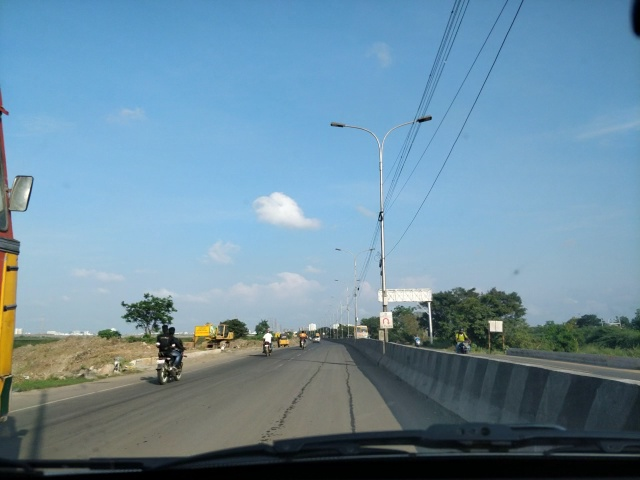motorbike: (154, 323, 186, 383), (449, 326, 471, 352), (260, 325, 276, 359), (296, 328, 311, 355)
truck: (4, 96, 37, 436)
